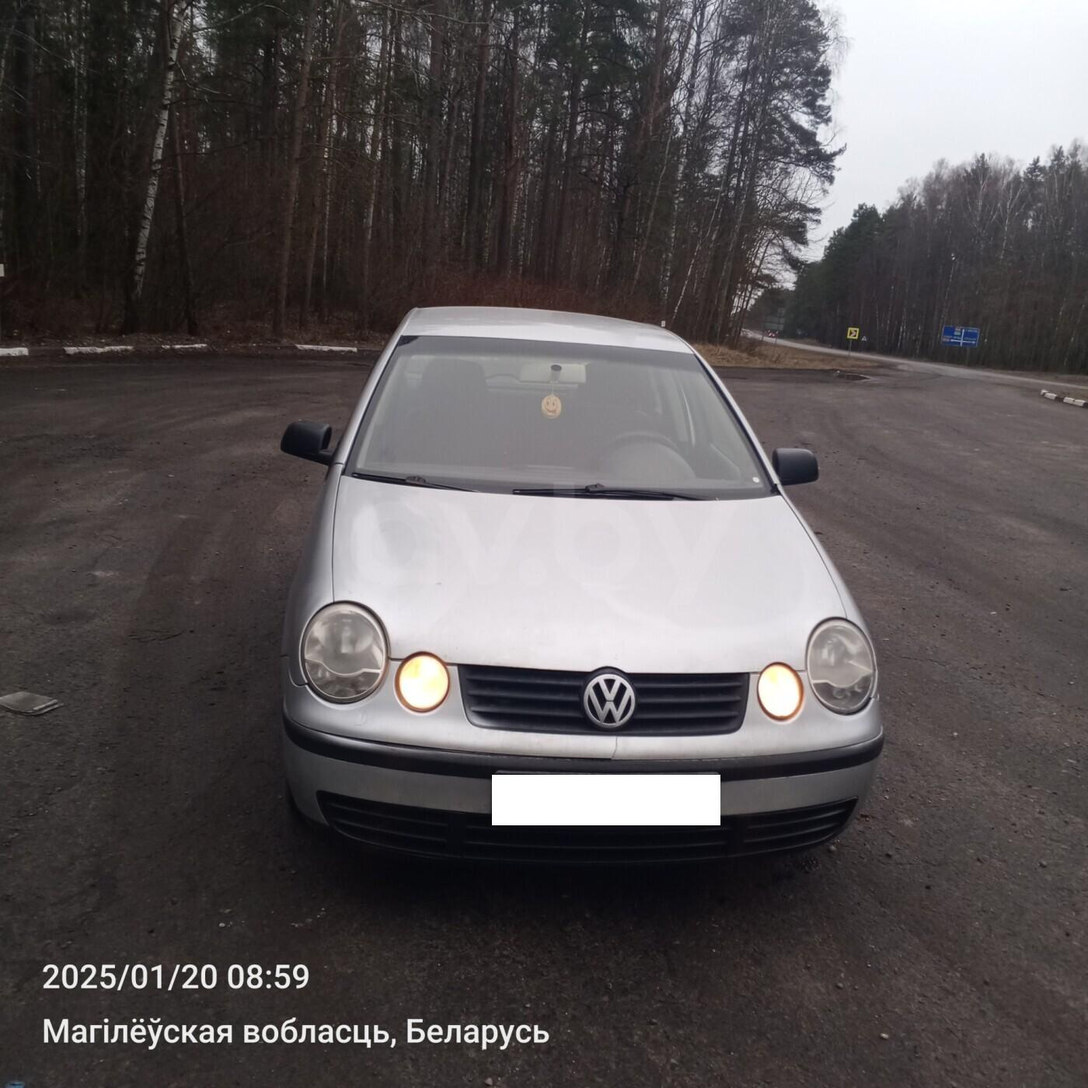Polo_2001-2005: (256, 298, 905, 892)
